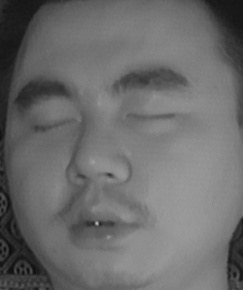blink: (124, 96, 181, 133), (29, 107, 79, 139)
mouth: (56, 193, 143, 253)
